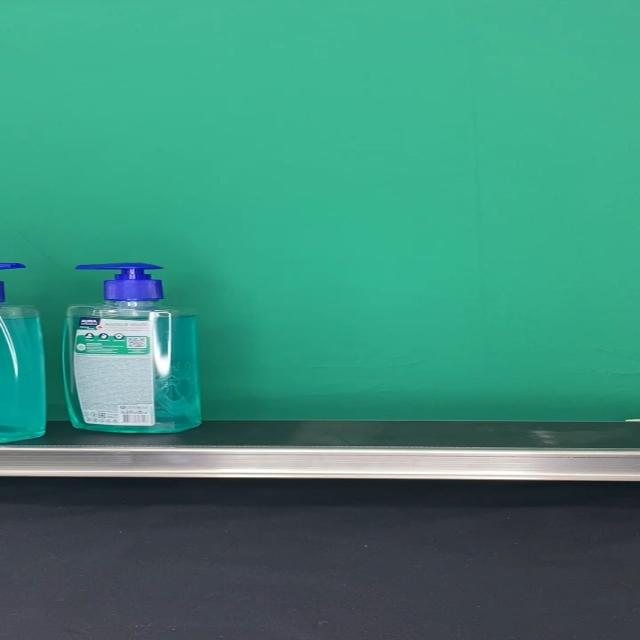Bottle: (61, 262, 202, 433)
Cap: (74, 262, 164, 302)
